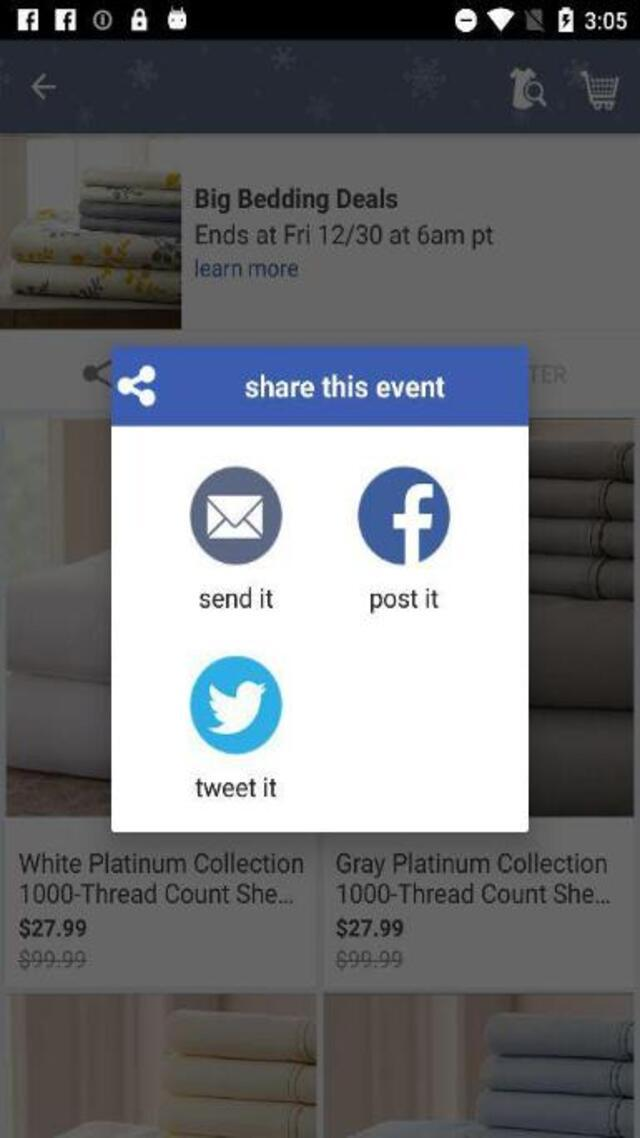Icon: (190, 466, 282, 564), (190, 656, 282, 752), (358, 466, 449, 562), (510, 68, 547, 111), (581, 70, 619, 111), (120, 366, 156, 406), (29, 74, 56, 100)
Image: (1, 135, 179, 327)
Text: (13, 881, 305, 910), (15, 850, 306, 878), (331, 880, 614, 908), (330, 850, 611, 878), (195, 224, 493, 249), (195, 188, 398, 214), (245, 374, 443, 398), (195, 258, 298, 278), (369, 587, 439, 612), (196, 776, 276, 796), (336, 947, 402, 970), (200, 587, 272, 608), (20, 948, 86, 969), (335, 918, 403, 938), (18, 918, 86, 938)
